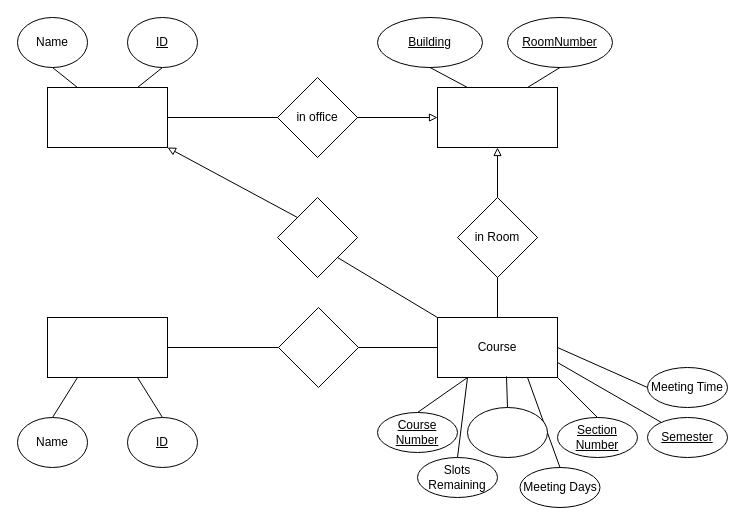
This 745x525 diagram has some shape labels left out. The centre of each missing label's shape, as x and y in pixels:
"Course Prefix" belongs at (507,432).
"has taken or is taking" belongs at (318,347).
"is Teaching" belongs at (317,237).
"Professor" belongs at (107,117).
"Room" belongs at (497,117).
"Student" belongs at (107,347).
